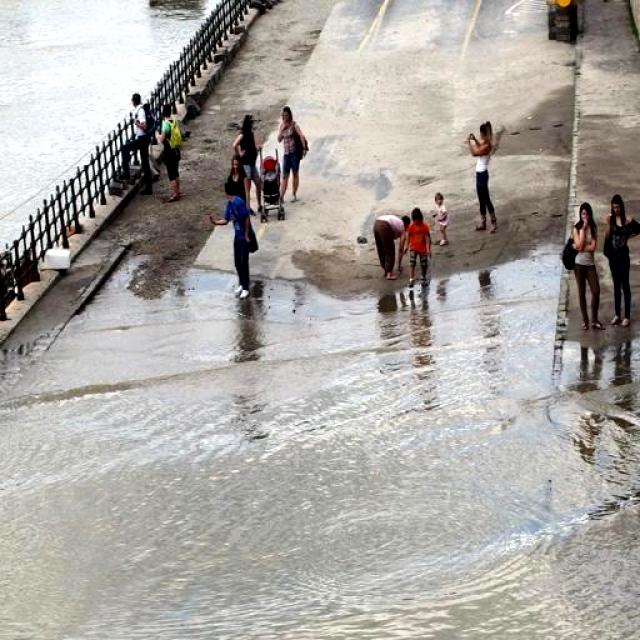civilian: (207, 178, 259, 302), (560, 196, 604, 340), (603, 190, 639, 332), (462, 116, 498, 239), (232, 112, 268, 218), (125, 88, 155, 207), (153, 104, 187, 206), (369, 205, 411, 285), (276, 104, 307, 210), (232, 112, 261, 218), (223, 151, 258, 235), (405, 203, 433, 288), (433, 189, 454, 253)
